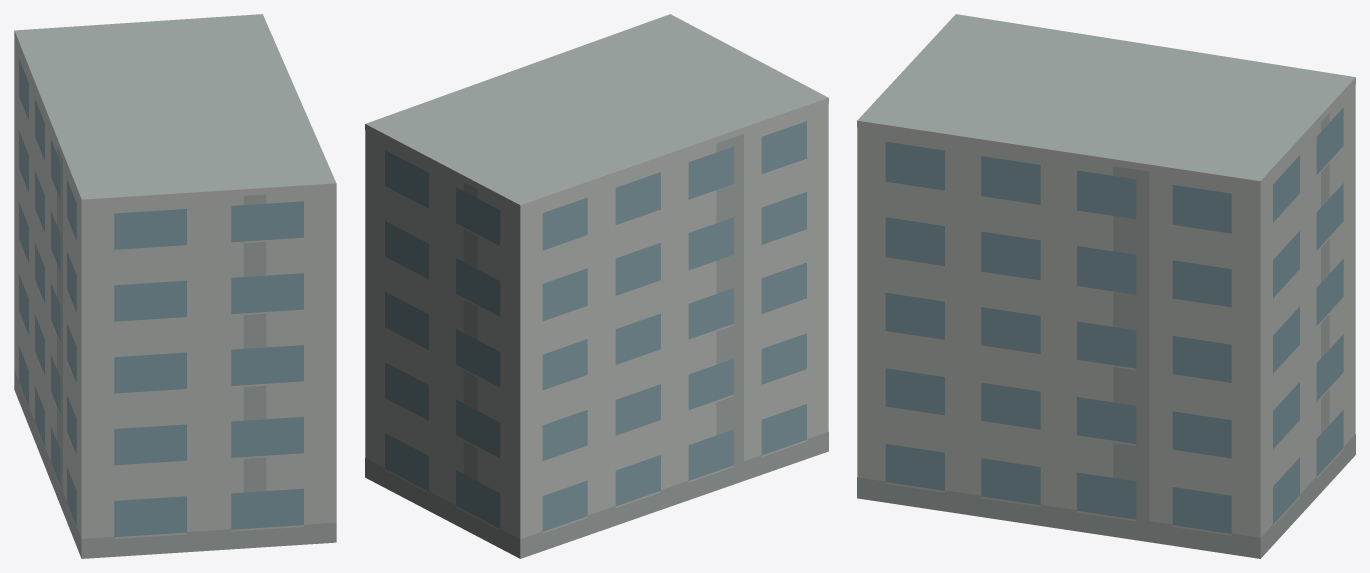
File: survey-upis-32890924.glb
The picture shows the model from 3 angles, left to right: view 1: azimuth 30°, elevation 25°; view 2: azimuth 150°, elevation 25°; view 3: azimuth 270°, elevation 25°; orthographic projection. The views are drawn at different scales.
Visible parts, largest first — view 1: survey-upis-32890924.tmp; view 2: survey-upis-32890924.tmp; view 3: survey-upis-32890924.tmp.
Boxes of the visible parts, x1=… form: survey-upis-32890924.tmp: x1=14, y1=14, x2=336, y2=558; survey-upis-32890924.tmp: x1=365, y1=14, x2=828, y2=558; survey-upis-32890924.tmp: x1=857, y1=14, x2=1355, y2=558.
Bounding box in the file's own units: 12.45 × 13.1 × 15.69.
